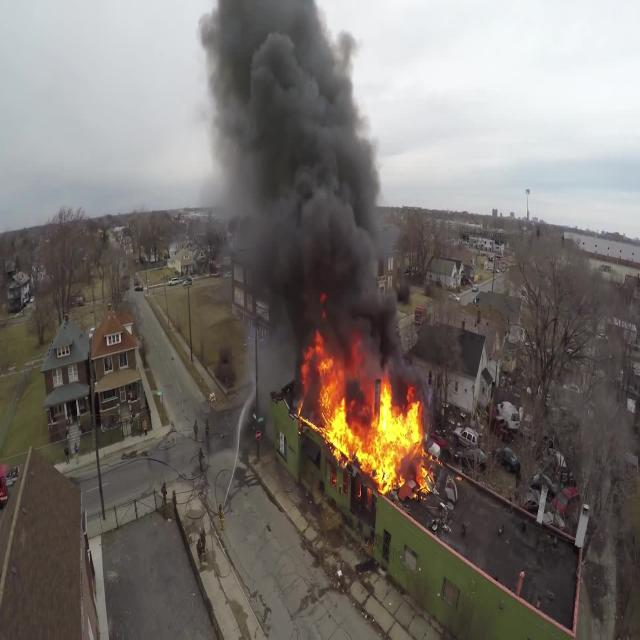Fire: (302, 325, 436, 506)
Smoke: (191, 0, 450, 434)
